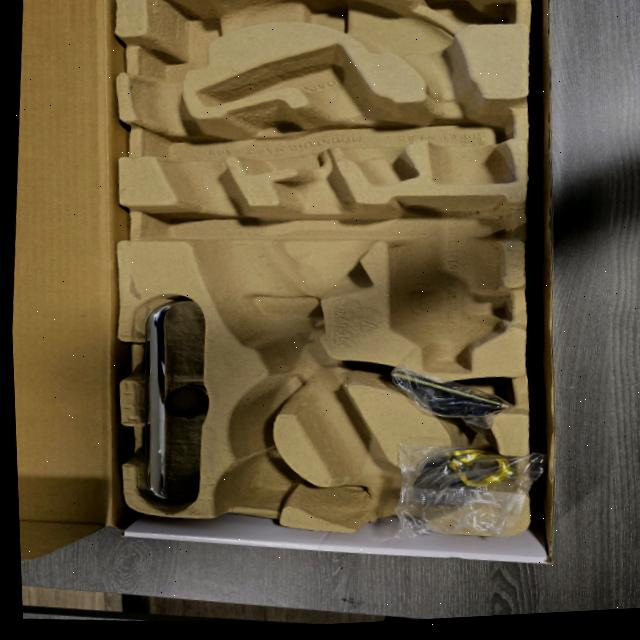1m: (141, 0, 516, 531)
2m: (199, 45, 415, 185)
3m: (386, 197, 503, 373)
4: (140, 297, 208, 499)
5m: (225, 458, 296, 501)
6: (394, 444, 542, 539)
7: (389, 367, 512, 428)
